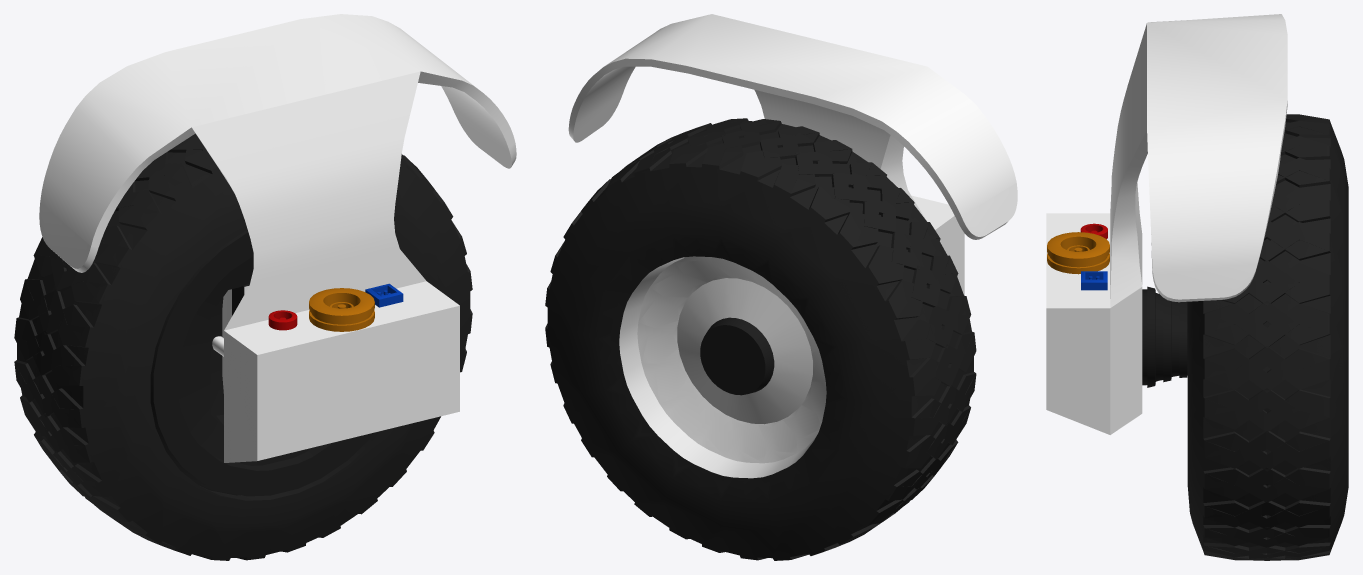
Rendered from Wheel.gltf.
The picture shows the model from 3 angles, left to right: view 1: azimuth 30°, elevation 25°; view 2: azimuth 150°, elevation 25°; view 3: azimuth 270°, elevation 25°; orthographic projection. The views are drawn at different scales.
Visible parts, largest first — view 1: mudguard, Torus, base, inner, TorusReverse, suspension-cylinder; view 2: TorusReverse, Torus, mudguard, base; view 3: mudguard, TorusReverse, Torus, base.
Part boxes in pixels (x1,y1,x2,y2): mudguard: (39, 14, 516, 330); Torus: (14, 133, 472, 560); base: (212, 281, 459, 462); inner: (150, 230, 373, 496); TorusReverse: (14, 139, 431, 559); suspension-cylinder: (222, 283, 249, 393); TorusReverse: (545, 119, 976, 560); Torus: (545, 118, 976, 544); mudguard: (568, 14, 1017, 239); base: (911, 195, 964, 295); mudguard: (1110, 14, 1287, 307); TorusReverse: (1203, 114, 1348, 560); Torus: (1187, 114, 1348, 560); base: (1046, 213, 1187, 434).
Bounding box in the file's own units: 1.07 × 1.16 × 0.6744.
